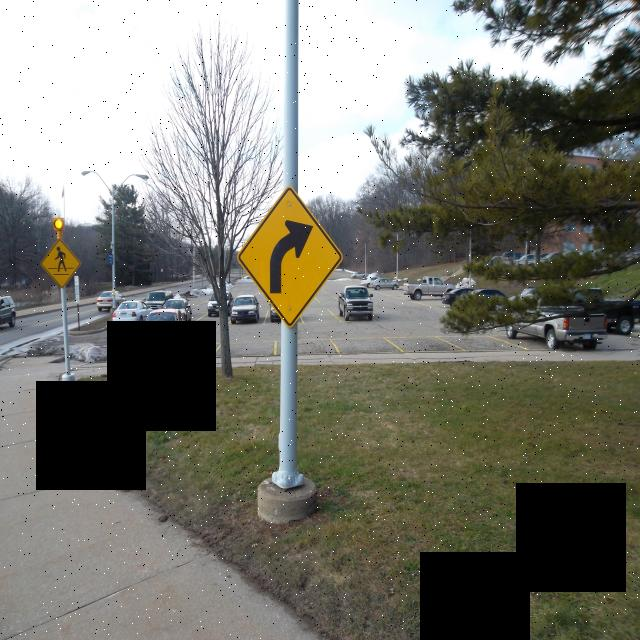warning: (238, 186, 344, 328), (39, 238, 81, 290)
